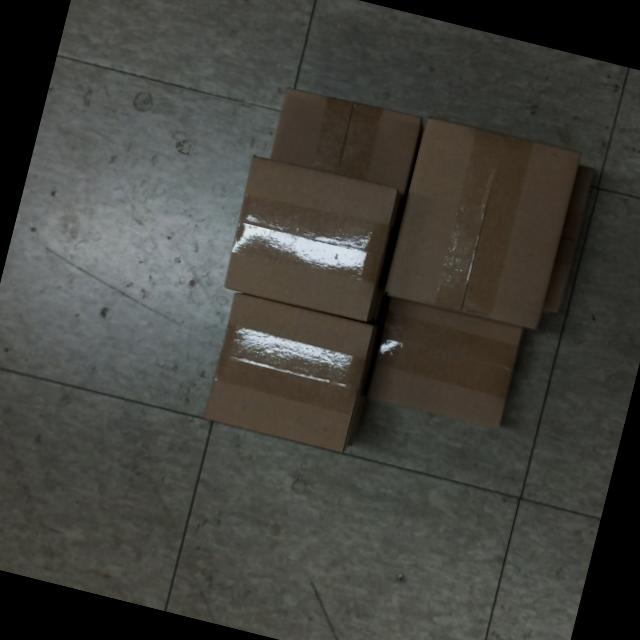box: (376, 104, 588, 337), (212, 145, 408, 331), (194, 285, 382, 460), (352, 289, 536, 435)
